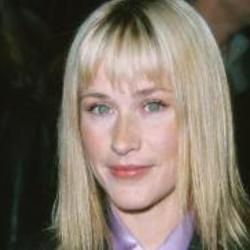face: (24, 1, 244, 215)
